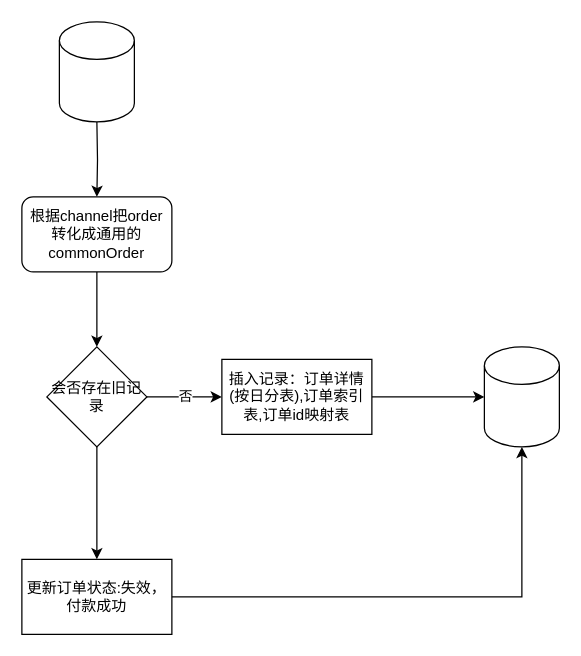
Some shapes in this 581 by 656 pixel diagram are drawn without their labels. Each missing label, with the centre of its shape:
"mq(分销)" belongs at [521,396].
"mq(订单)" belongs at [96,71].
